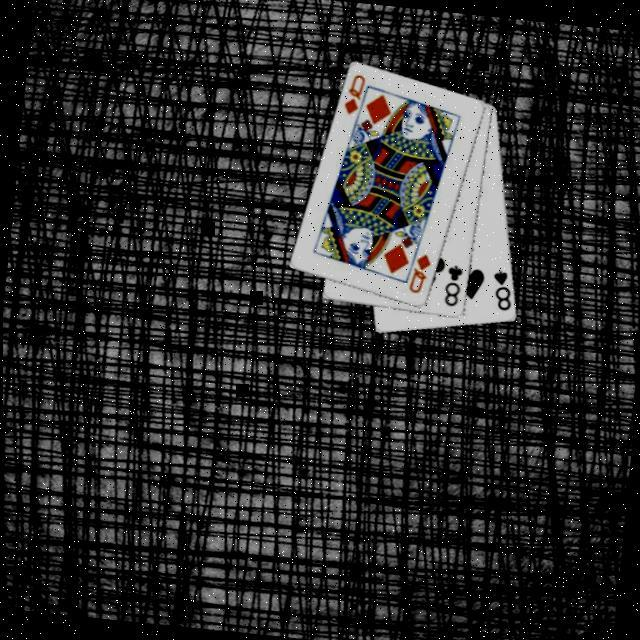8C: (436, 262, 464, 312)
8S: (484, 268, 514, 316)
QD: (402, 251, 432, 299), (336, 72, 366, 120)
